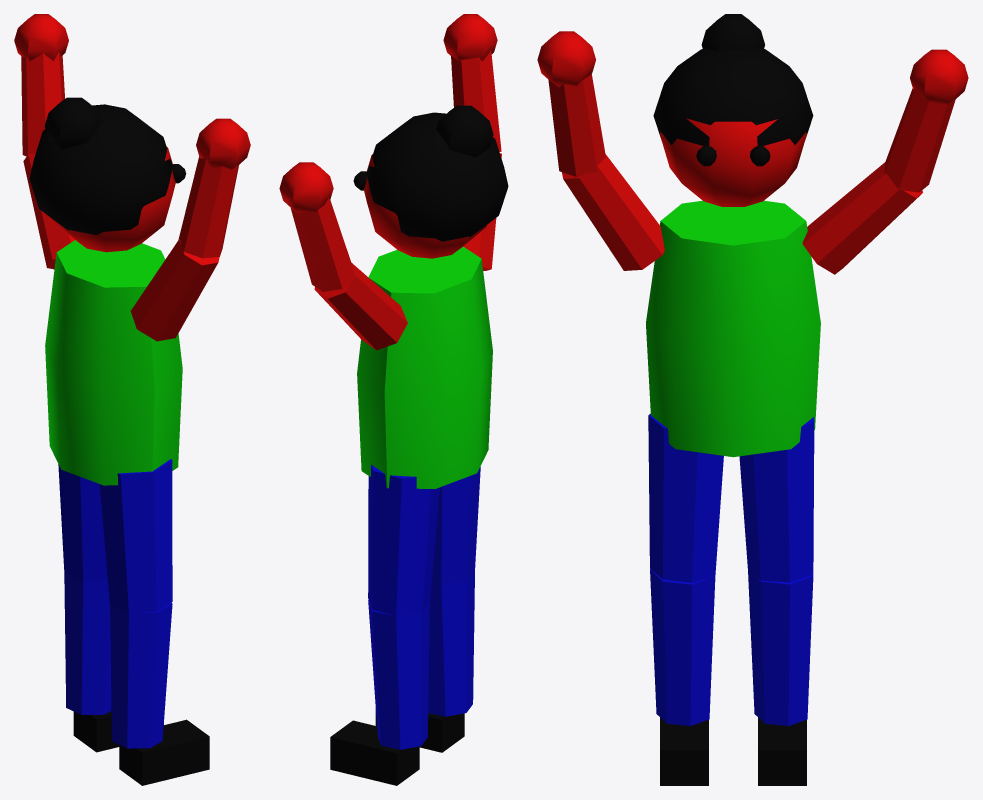
The model's file is SM_CrowdD.glb.
The picture shows the model from 3 angles, left to right: view 1: azimuth 30°, elevation 25°; view 2: azimuth 150°, elevation 25°; view 3: azimuth 270°, elevation 25°; orthographic projection. The views are drawn at different scales.
Parts seen in each view (by area): view 1: SM_CrowdD; view 2: SM_CrowdD; view 3: SM_CrowdD.
Part boxes in pixels (<box>): SM_CrowdD: <box>14,14,250,785</box>; SM_CrowdD: <box>279,14,508,785</box>; SM_CrowdD: <box>537,14,968,785</box>.
Size of the model in its own units: 0.3392 by 1.66 by 0.88.
